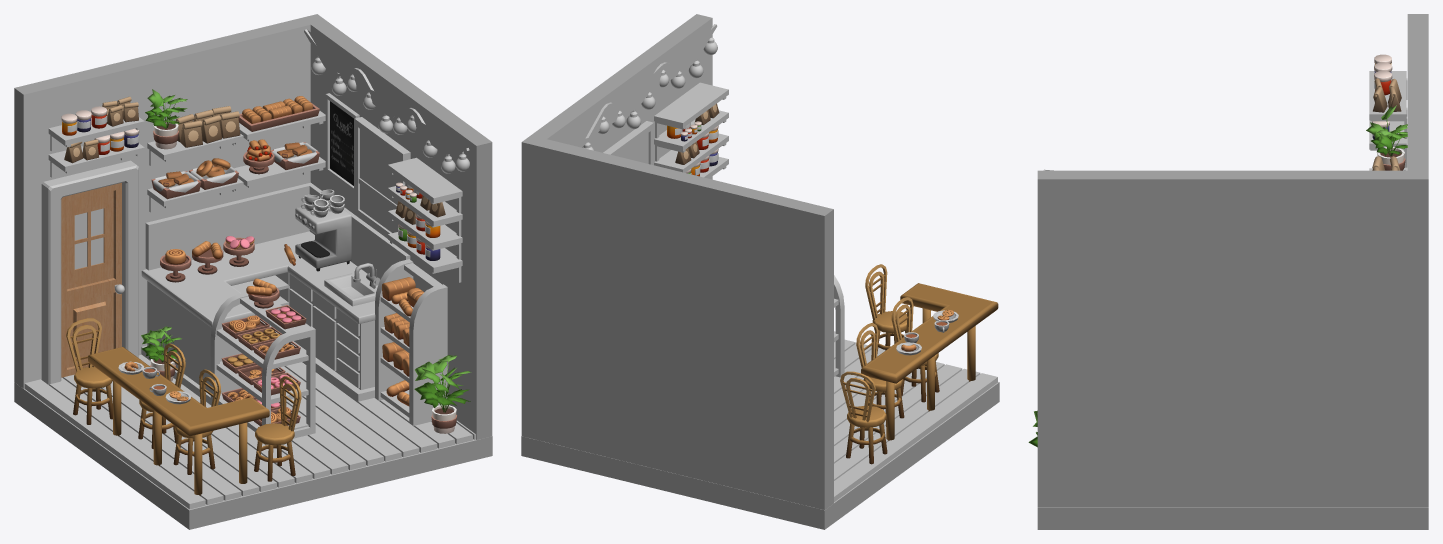
File: Demo_Watercolor_Shop.fbx
The picture shows the model from 3 angles, left to right: view 1: azimuth 30°, elevation 25°; view 2: azimuth 150°, elevation 25°; view 3: azimuth 270°, elevation 25°; orthographic projection. The views are drawn at different scales.
Parts seen in each view (by area): view 1: Isometric_cafe, Cube.003, Cube.002, Cube.062, Plane.016, Cube, Cylinder.067, Cylinder.020, Cylinder.070, Cylinder.066, Cylinder.018, Cylinder.069 (+3 smaller); view 2: Isometric_cafe, Cube.062, Plane.016, Cylinder.067, Cylinder.066, Cylinder.070, Cylinder.068, Cylinder.069; view 3: Isometric_cafe, Cylinder.018.
Part boxes in pixels (bbox=[...]): Isometric_cafe: bbox=[14, 14, 492, 529]; Cube.003: bbox=[61, 182, 124, 377]; Cube.002: bbox=[41, 160, 138, 384]; Cube.062: bbox=[88, 347, 269, 436]; Plane.016: bbox=[304, 29, 469, 154]; Cube: bbox=[295, 206, 351, 271]; Cylinder.067: bbox=[66, 318, 112, 424]; Cylinder.020: bbox=[414, 355, 471, 433]; Cylinder.070: bbox=[254, 376, 301, 481]; Cylinder.066: bbox=[113, 380, 247, 495]; Cylinder.018: bbox=[145, 89, 187, 149]; Cylinder.069: bbox=[173, 369, 221, 474]; Isometric_cafe: bbox=[521, 14, 999, 529]; Cube.062: bbox=[861, 283, 998, 383]; Plane.016: bbox=[555, 24, 717, 147]; Cylinder.067: bbox=[840, 371, 887, 464]; Cylinder.066: bbox=[886, 308, 975, 440]; Cylinder.070: bbox=[865, 264, 906, 353]; Cylinder.068: bbox=[856, 323, 904, 426]; Cylinder.069: bbox=[891, 297, 939, 402]; Isometric_cafe: bbox=[1037, 14, 1428, 529]; Cylinder.018: bbox=[1366, 105, 1407, 170].
Size of the model in its own units: 200 by 198 by 205.
